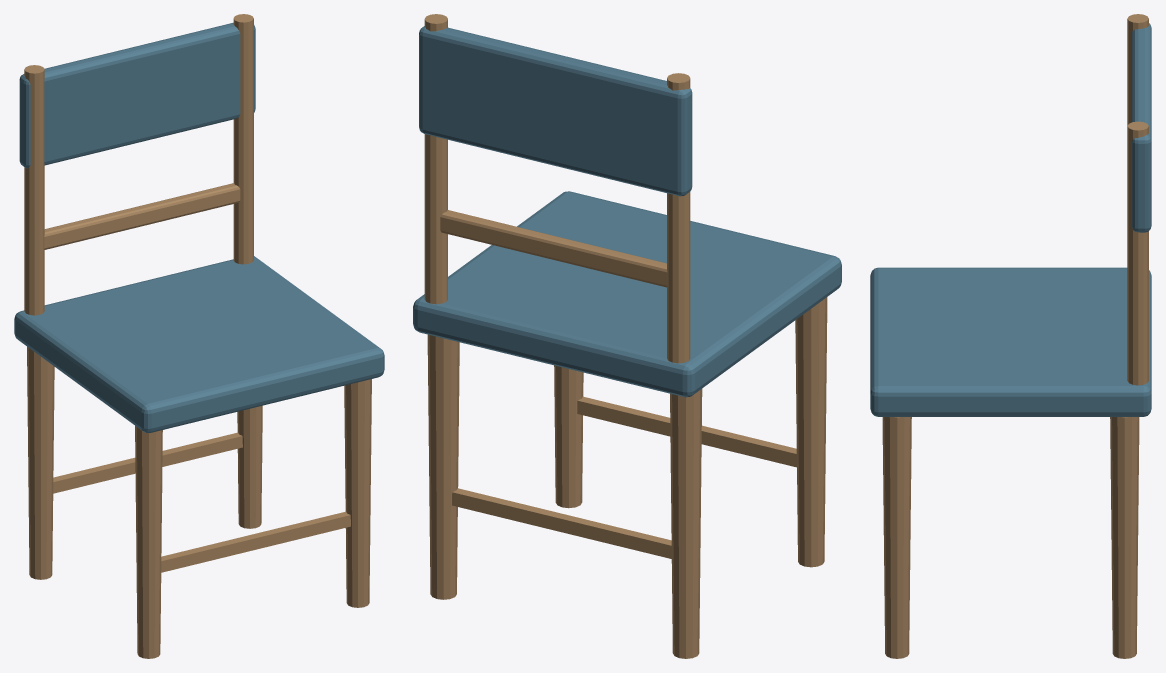
The model's file is chair.glb.
3 renders of one model, left to right at view 1: azimuth 30°, elevation 25°; view 2: azimuth 150°, elevation 25°; view 3: azimuth 270°, elevation 25°, orthographic. The views are drawn at different scales.
Visible parts, largest first — view 1: seat, back, leg, leg.001, leg.002, post, post.001, rail, stretcher, leg.003, stretcher.001; view 2: seat, back, leg.001, leg, leg.003, rail, post, stretcher.001, post.001, leg.002, stretcher; view 3: seat, leg.002, leg.003, post.001, back, post.
Part boxes in pixels (box(x1,y1,x2,y2)): seat: box(14, 256, 384, 432); back: box(19, 22, 255, 168); leg: box(135, 426, 162, 658); leg.001: box(27, 347, 54, 579); leg.002: box(344, 379, 371, 607); post: box(24, 65, 44, 315); post.001: box(233, 14, 253, 264); rail: box(44, 183, 240, 249); stretcher: box(161, 511, 350, 572); leg.003: box(237, 405, 262, 528); stretcher.001: box(53, 432, 242, 493); seat: box(413, 191, 841, 397); back: box(419, 26, 692, 196); leg.001: box(670, 389, 702, 658); leg: box(795, 297, 827, 567); leg.003: box(427, 334, 459, 599); rail: box(440, 210, 667, 287); post: box(667, 73, 690, 363); stretcher.001: box(452, 488, 671, 558); post.001: box(424, 14, 447, 304); leg.002: box(554, 365, 583, 508); stretcher: box(577, 396, 796, 467); seat: box(870, 267, 1151, 416); leg.002: box(882, 417, 911, 658); leg.003: box(1110, 417, 1139, 658); post.001: box(1127, 121, 1148, 385); back: box(1131, 23, 1151, 232); post: box(1127, 14, 1148, 125).
Size of the model in its own units: 0.44 by 0.87 by 0.42.
